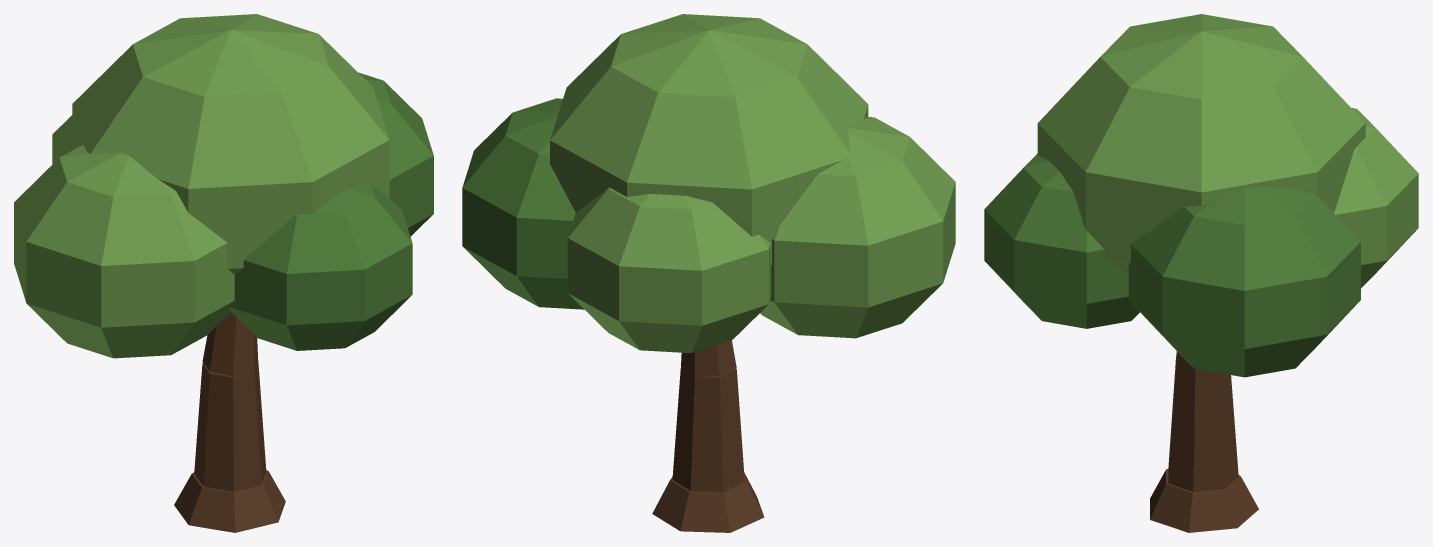
Rendered from nature_zelkova_a.glb.
3 views of the same model, side by side, from view 1: azimuth 30°, elevation 25°; view 2: azimuth 150°, elevation 25°; view 3: azimuth 270°, elevation 25° (orthographic).
Parts seen in each view (by area): view 1: nature_zelkova_a; view 2: nature_zelkova_a; view 3: nature_zelkova_a.
Boxes of the visible parts, <box> form: nature_zelkova_a: <box>14,14,433,532</box>; nature_zelkova_a: <box>462,14,955,532</box>; nature_zelkova_a: <box>984,14,1418,532</box>.
Bounding box in the file's own units: 6.93 × 7.34 × 6.05.
